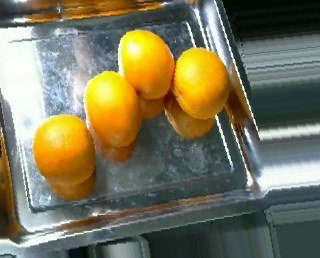Orange: (30, 111, 95, 186), (83, 70, 143, 149), (117, 27, 175, 101), (172, 45, 229, 119)
